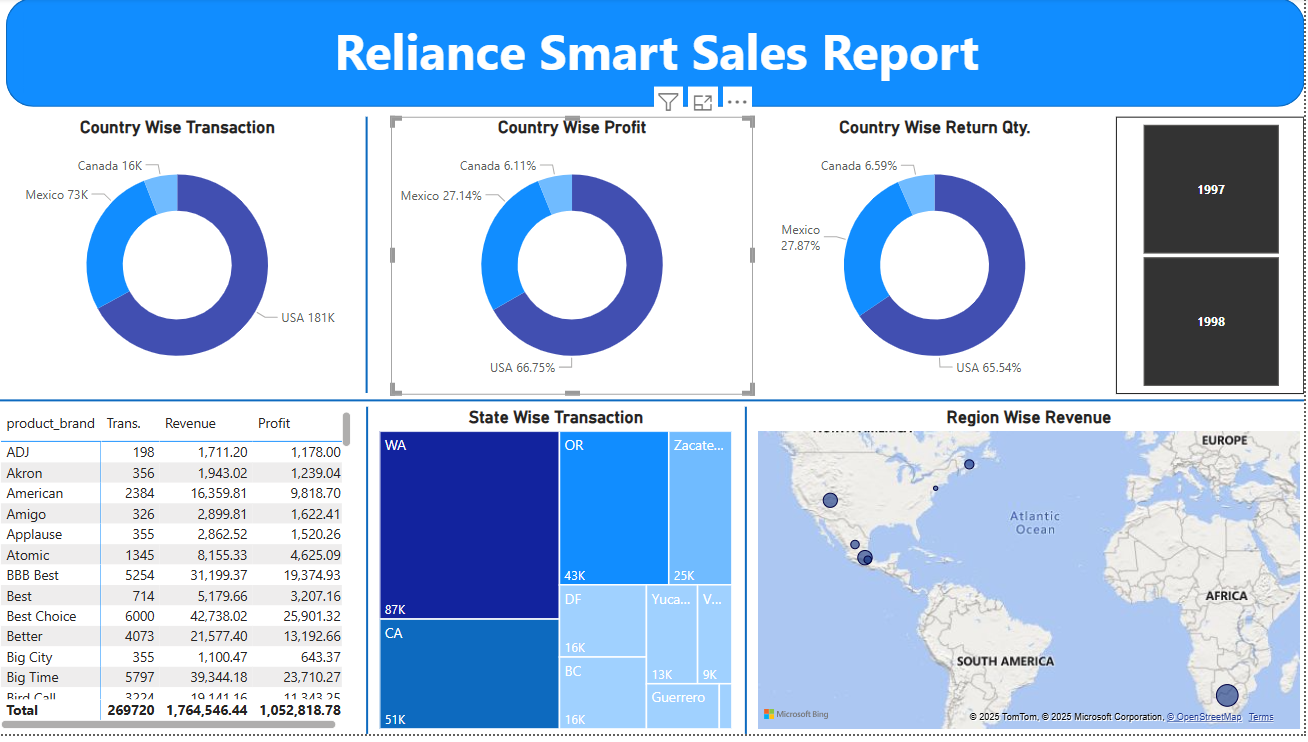

What the dashboard file says about the page in this screenshot:
{"tool":"powerbi","page":{"name":"Report 2","canvas":[1280,720],"ordinal":3},"visuals":[{"type":"shape","box":[9.8,0,1270.5,106.4],"z":0},{"type":"textbox","box":[26.9,13.5,1238.7,79.5],"z":1000},{"type":"donutChart","title":"Country Wise Transaction","fields":{"Category":["d_stores.store_country"],"Y":["Measures (2).M_total_transaction"]},"box":[0,116.2,355,271.5],"z":2000},{"type":"shape","box":[0,387.6,1280.3,12.2],"z":3000},{"type":"donutChart","title":"Country Wise Profit","fields":{"Category":["d_stores.store_country"],"Y":["Measures (2).M_total_profit"]},"box":[370.5,114.9,354.6,271.5],"z":4000},{"type":"donutChart","title":"Country Wise Return Qty.","fields":{"Category":["d_stores.store_country"],"Y":["Measures (2).M_total_return"]},"box":[741,116.2,354.6,271.5],"z":5000},{"type":"pivotTable","fields":{"Rows":["d_products.product_brand"],"Values":["Measures (2).M_total_transaction","Measures (2).M_total_revenue","Measures (2).M_total_profit"]},"box":[0,399.9,352.2,320.4],"z":6000},{"type":"shape","box":[354.6,116.2,15.9,270.2],"z":7000},{"type":"shape","box":[725.1,116.2,15.9,270.2],"z":8000},{"type":"shape","box":[355.8,399.9,14.7,320.4],"z":9000},{"type":"treemap","title":"State Wise Transaction","fields":{"Group":["d_stores.store_state"],"Values":["Measures (2).M_total_transaction"]},"box":[370.5,399.9,354.6,320.4],"z":10000},{"type":"shape","box":[726.4,399.9,14.7,320.4],"z":11000},{"type":"map","title":"Region Wise Revenue","fields":{"Size":["Measures (2).M_total_revenue"],"Category":["d_regions.sales_region"]},"box":[741,400,539,320],"z":12000},{"type":"slicer","fields":{"Values":["d_calendar.Year"]},"box":[1096,116,184,271],"z":13000}]}

Visuals, with their boxes in screenshot pixels (x1, y1, x2, y2), scaled from the page's 1280x720 canvas onto the 1308x742 screenshot:
shape: locate(10, 0, 1307, 110)
textbox: locate(27, 14, 1293, 96)
"Country Wise Transaction" donutChart: locate(0, 120, 363, 400)
shape: locate(0, 399, 1307, 412)
"Country Wise Profit" donutChart: locate(379, 118, 741, 398)
"Country Wise Return Qty." donutChart: locate(757, 120, 1120, 400)
pivotTable - d_products.product_brand x Measures (2).M_total_transaction: locate(0, 412, 360, 741)
shape: locate(362, 120, 379, 398)
shape: locate(741, 120, 757, 398)
shape: locate(364, 412, 379, 741)
"State Wise Transaction" treemap: locate(379, 412, 741, 741)
shape: locate(742, 412, 757, 741)
"Region Wise Revenue" map: locate(757, 412, 1307, 741)
slicer - d_calendar.Year: locate(1120, 120, 1307, 399)
